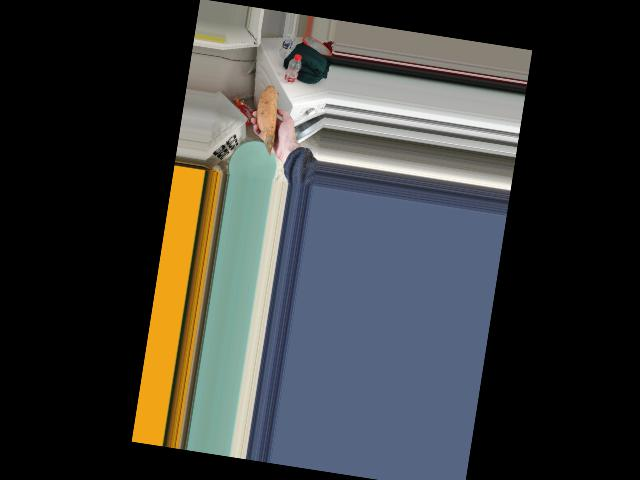sweet_potato: (247, 86, 277, 161)
